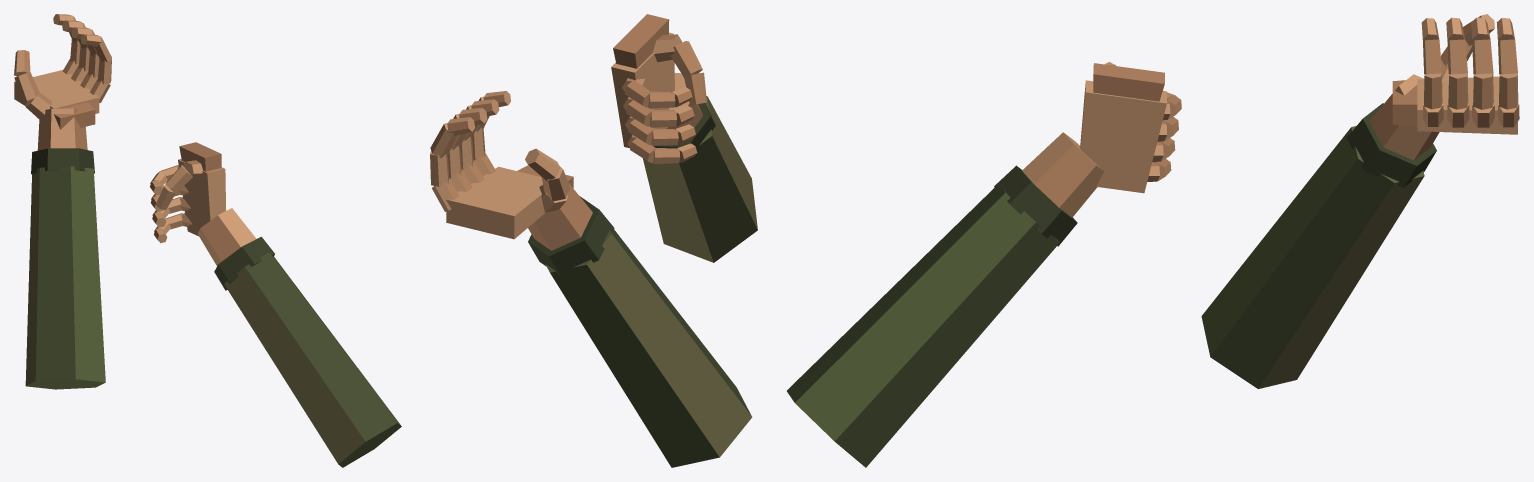
Rendered from maos_wf_ak47.glb.
The picture shows the model from 3 angles, left to right: view 1: azimuth 30°, elevation 25°; view 2: azimuth 150°, elevation 25°; view 3: azimuth 270°, elevation 25°; orthographic projection. The views are drawn at different scales.
Visible parts, largest first — view 1: MaoE, MaoD; view 2: MaoE, MaoD; view 3: MaoD, MaoE.
Part boxes in pixels (box(x1,y1,x2,y2)): MaoE: box(14, 14, 111, 389); MaoD: box(150, 142, 401, 467); MaoE: box(430, 91, 752, 467); MaoD: box(611, 14, 757, 262); MaoD: box(787, 62, 1181, 467); MaoE: box(1201, 14, 1519, 388).
Bounding box in the file's own units: 0.3394 × 0.4462 × 0.7146.
